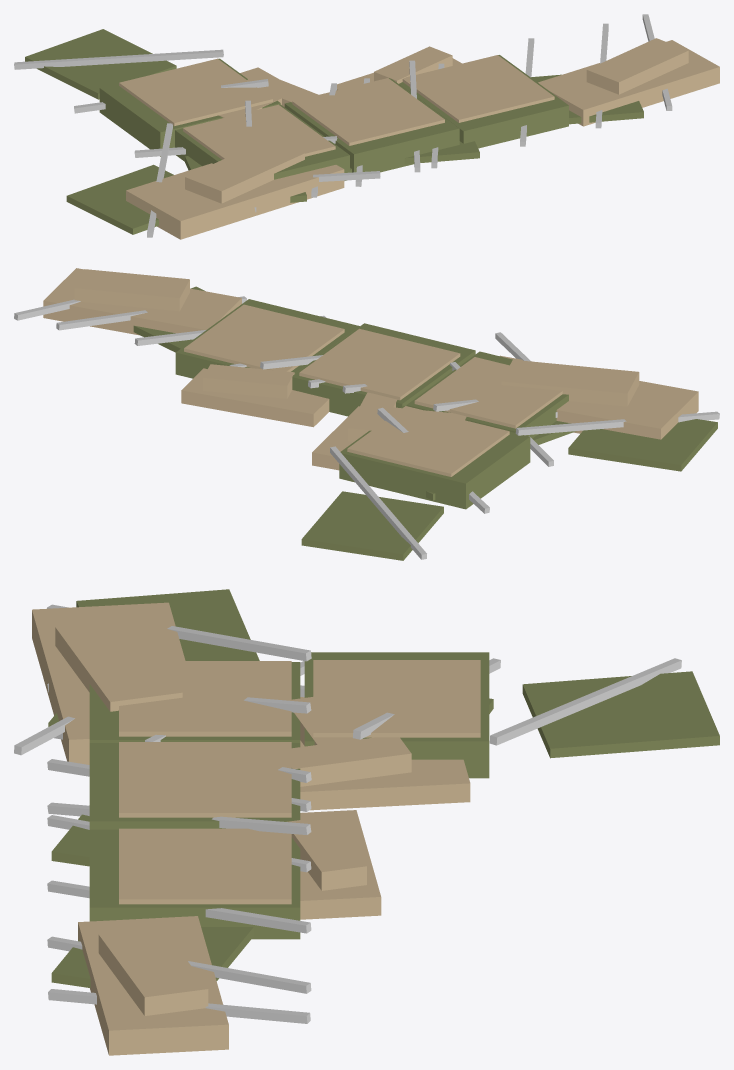
File: SM_HescoRemate_v0_MallaLimpia_e3_Brecha_LOD0.fbx
The picture shows the model from 3 angles, top to bottom: view 1: azimuth 30°, elevation 25°; view 2: azimuth 150°, elevation 25°; view 3: azimuth 270°, elevation 25°; orthographic projection. The views are drawn at different scales.
Visible parts, largest first — view 1: SM_hesco_piezas_v23_LOD0; view 2: SM_hesco_piezas_v23_LOD0; view 3: SM_hesco_piezas_v23_LOD0.
Part boxes in pixels (x1,y1,x2,y2): SM_hesco_piezas_v23_LOD0: [14, 14, 719, 239]; SM_hesco_piezas_v23_LOD0: [14, 268, 719, 560]; SM_hesco_piezas_v23_LOD0: [14, 589, 719, 1055].
Size of the model in its own units: 6.23 by 0.3263 by 4.09.
